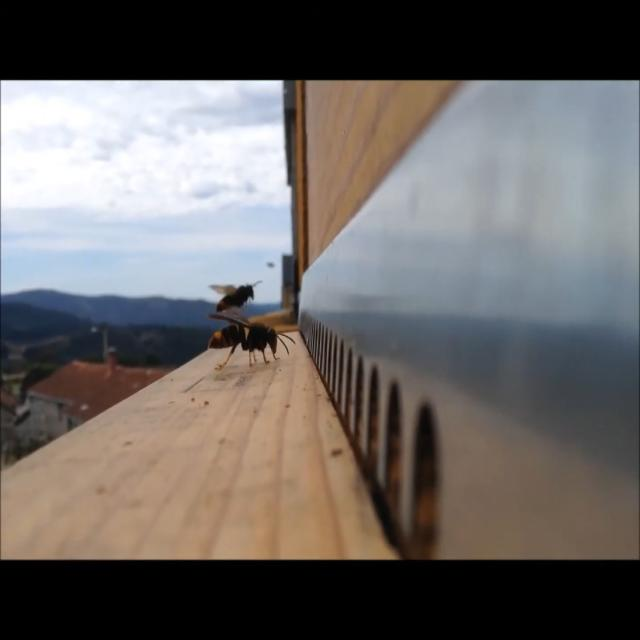Hornets: (203, 308, 295, 372)
